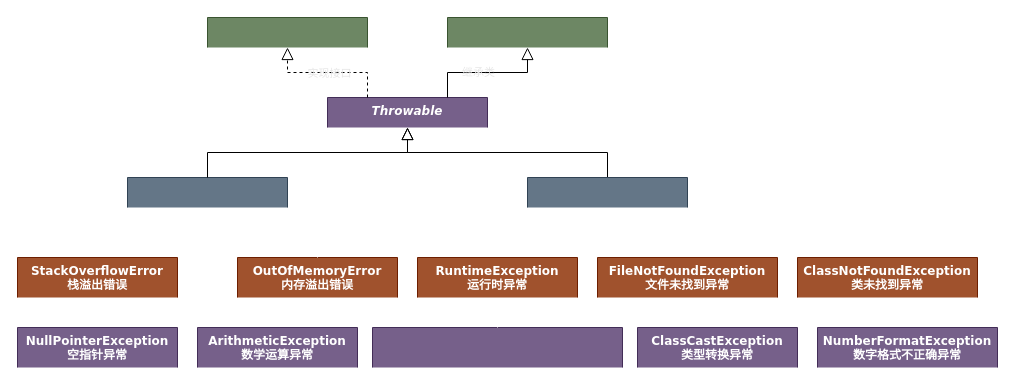
The diagram is 1015 pixels wide and 385 high, and some of its shapes have lost their labels. Each missing label, with the centre of its shape:
"ArrayIndexOutOfBoundsException 数组下标越界异常" belongs at point 497,347.
"Error" belongs at point 207,192.
"Exception" belongs at point 607,192.
"Object" belongs at point 527,32.
"Serializable" belongs at point 287,32.
